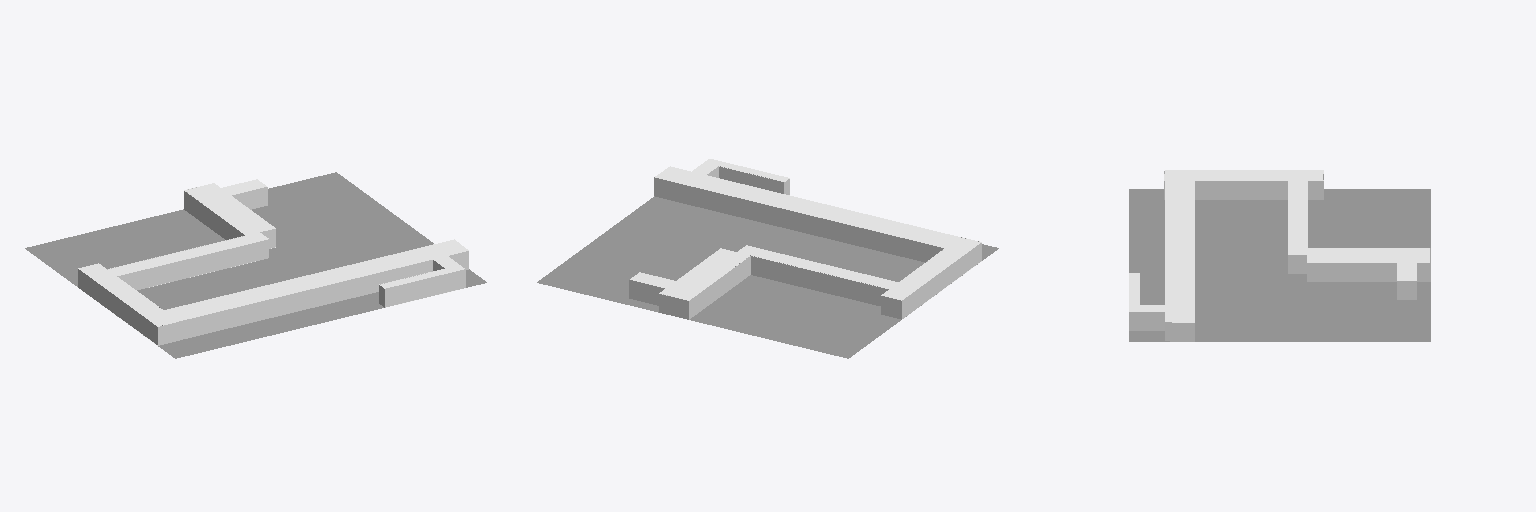
Rendered from ModelLv3-A.obj.
The picture shows the model from 3 angles: view 1: azimuth 30°, elevation 25°; view 2: azimuth 150°, elevation 25°; view 3: azimuth 270°, elevation 25°; orthographic projection.
Parts seen in each view (by area): view 1: ground_1, wall_21_124, room_30_161, wall_6_34, room_26_153, room_29_159, wall_17_100, wall_9_52, room_28_157, wall_4_22, room_31_163; view 2: ground_1, wall_13_76, room_30_161, wall_12_70, room_26_153, room_29_159, wall_9_52, room_28_157, wall_4_22, wall_19_112, wall_23_136, room_31_163 (+1 smaller); view 3: ground_1, room_30_161, wall_2_10, room_26_153, wall_7_40, room_29_159, room_28_157, wall_16_94, wall_14_82, room_31_163.
Part boxes in pixels (x1,y1,x2,y2): ground_1: (25,172,486,358); wall_21_124: (179,260,432,339); room_30_161: (163,240,468,321); wall_6_34: (117,239,268,289); room_26_153: (185,183,275,235); room_29_159: (79,264,177,326); wall_17_100: (385,269,465,307); wall_9_52: (78,269,157,344); room_28_157: (108,232,268,275); wall_4_22: (184,191,244,239); room_31_163: (381,256,463,287); ground_1: (537,196,998,358); wall_13_76: (654,177,943,262); room_30_161: (655,167,959,247); wall_12_70: (751,256,888,305); room_26_153: (660,248,748,299); room_29_159: (882,237,981,299); wall_9_52: (902,243,981,318); room_28_157: (738,245,897,288); wall_4_22: (689,256,750,319); wall_19_112: (719,167,783,193); wall_23_136: (629,280,664,305); room_31_163: (692,159,788,181); ground_1: (1129,189,1430,341); room_30_161: (1165,181,1194,321); wall_2_10: (1307,263,1430,281); room_26_153: (1308,248,1429,262); wall_7_40: (1164,181,1287,199); room_29_159: (1165,170,1322,180); room_28_157: (1288,181,1306,254); wall_16_94: (1129,312,1164,330); wall_14_82: (1165,322,1194,341); room_31_163: (1130,273,1164,311).
Bounding box in the file's own units: 4298 × 250 × 3604.